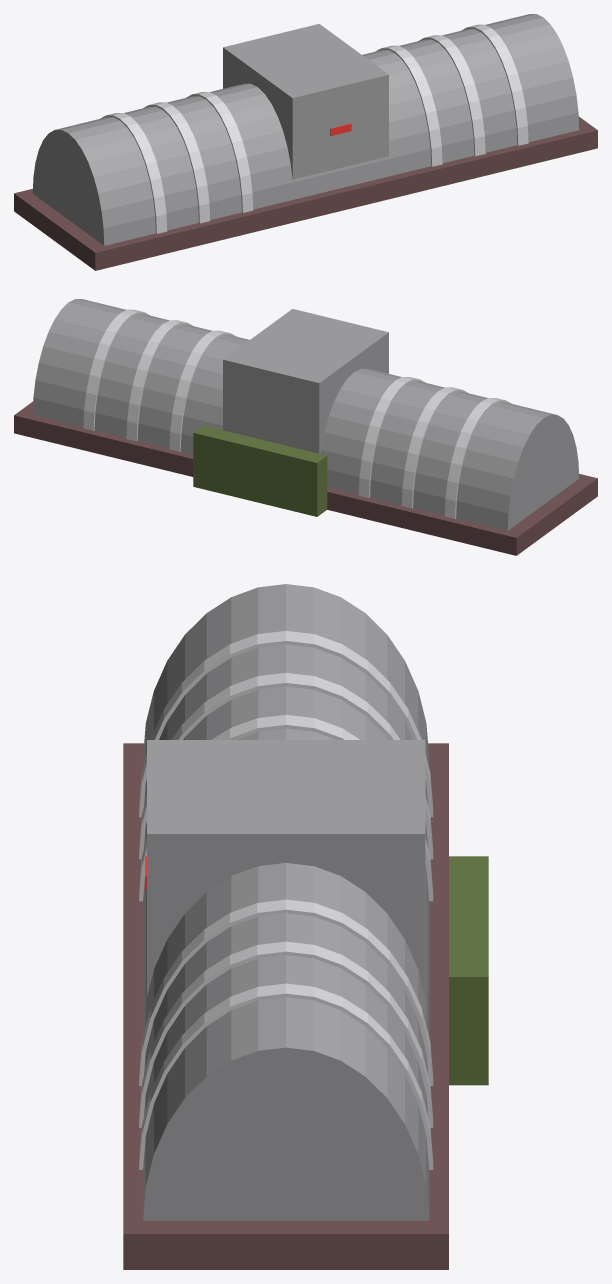
Rendered from vge_standard_recharger.obj.
The picture shows the model from 3 angles, top to bottom: view 1: azimuth 30°, elevation 25°; view 2: azimuth 150°, elevation 25°; view 3: azimuth 270°, elevation 25°; orthographic projection. The views are drawn at different scales.
Visible parts, largest first — view 1: vge_standard_recharger_1, vge_standard_recharger_8, vge_standard_recharger_0, vge_standard_recharger_3, vge_standard_recharger_5, vge_standard_recharger_7, vge_standard_recharger_6, vge_standard_recharger_2, vge_standard_recharger_4; view 2: vge_standard_recharger_1, vge_standard_recharger_8, vge_standard_recharger_0, vge_standard_recharger_10, vge_standard_recharger_3, vge_standard_recharger_5, vge_standard_recharger_7, vge_standard_recharger_6, vge_standard_recharger_2, vge_standard_recharger_4; view 3: vge_standard_recharger_1, vge_standard_recharger_8, vge_standard_recharger_0, vge_standard_recharger_10, vge_standard_recharger_7, vge_standard_recharger_6, vge_standard_recharger_5, vge_standard_recharger_2, vge_standard_recharger_3, vge_standard_recharger_4.
Part boxes in pixels (left/top/right/bottom): vge_standard_recharger_1: left=32, top=14, right=579, bottom=245; vge_standard_recharger_8: left=223, top=24, right=388, bottom=179; vge_standard_recharger_0: left=14, top=116, right=597, bottom=270; vge_standard_recharger_3: left=143, top=102, right=210, bottom=223; vge_standard_recharger_5: left=375, top=45, right=442, bottom=166; vge_standard_recharger_7: left=461, top=24, right=528, bottom=145; vge_standard_recharger_6: left=419, top=35, right=485, bottom=156; vge_standard_recharger_2: left=100, top=113, right=167, bottom=233; vge_standard_recharger_4: left=186, top=92, right=253, bottom=212; vge_standard_recharger_1: left=32, top=299, right=579, bottom=530; vge_standard_recharger_8: left=223, top=309, right=388, bottom=453; vge_standard_recharger_0: left=14, top=401, right=597, bottom=555; vge_standard_recharger_10: left=193, top=425, right=327, bottom=516; vge_standard_recharger_3: left=401, top=387, right=468, bottom=508; vge_standard_recharger_5: left=169, top=330, right=236, bottom=451; vge_standard_recharger_7: left=83, top=309, right=150, bottom=430; vge_standard_recharger_6: left=126, top=320, right=192, bottom=441; vge_standard_recharger_2: left=444, top=398, right=511, bottom=518; vge_standard_recharger_4: left=358, top=377, right=425, bottom=497; vge_standard_recharger_1: left=143, top=584, right=429, bottom=1220; vge_standard_recharger_8: left=147, top=740, right=425, bottom=996; vge_standard_recharger_0: left=123, top=743, right=448, bottom=1269; vge_standard_recharger_10: left=449, top=856, right=488, bottom=1085; vge_standard_recharger_7: left=139, top=983, right=433, bottom=1169; vge_standard_recharger_6: left=139, top=941, right=433, bottom=1127; vge_standard_recharger_5: left=139, top=899, right=433, bottom=1085; vge_standard_recharger_2: left=139, top=631, right=433, bottom=817; vge_standard_recharger_3: left=139, top=673, right=433, bottom=859; vge_standard_recharger_4: left=139, top=715, right=433, bottom=901.
Size of the model in its own units: 2.92 by 0.66 by 0.92.
